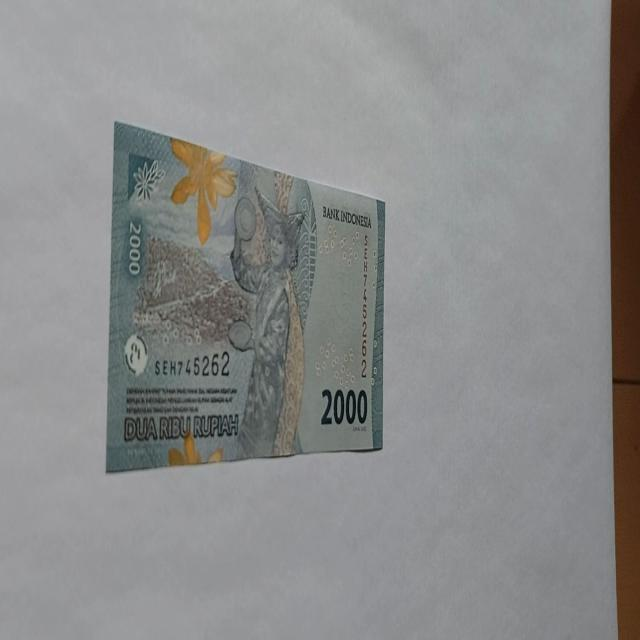dua ribu rupiah: (105, 121, 386, 471), (227, 184, 307, 459)
